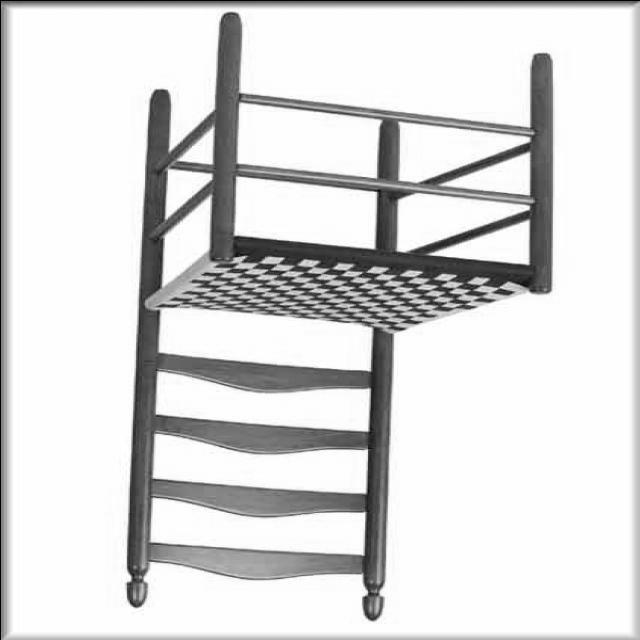chair: (114, 11, 552, 624)
